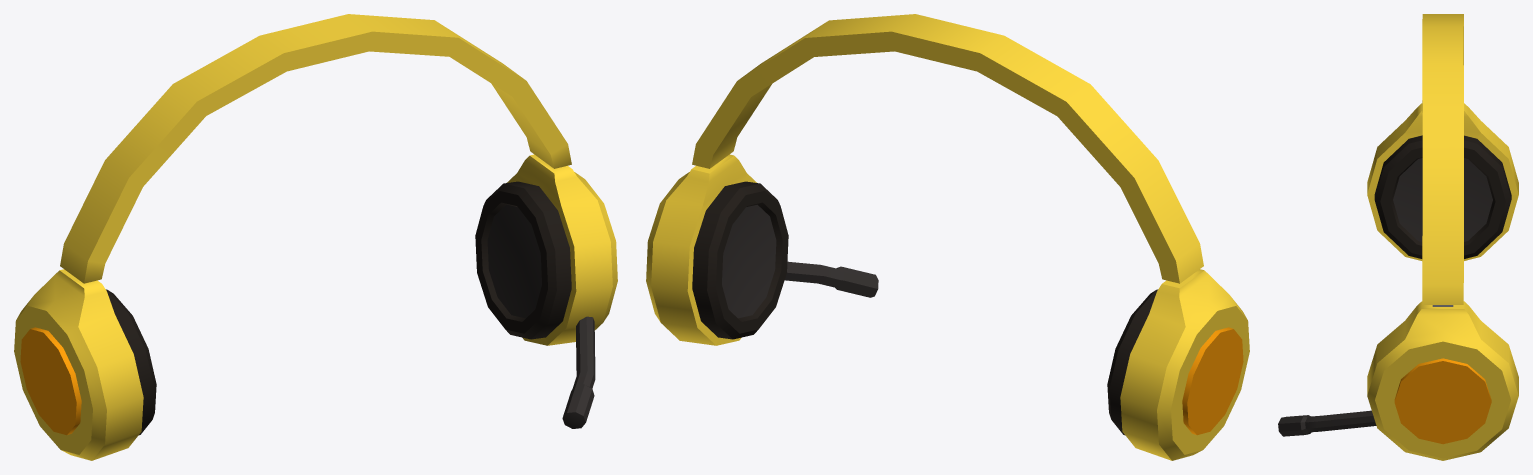
The model's file is Headphones_01_01.fbx.
3 renders of one model, left to right at view 1: azimuth 30°, elevation 25°; view 2: azimuth 150°, elevation 25°; view 3: azimuth 270°, elevation 25°, orthographic. The views are drawn at different scales.
Visible parts, largest first — view 1: Headphones_01_01; view 2: Headphones_01_01; view 3: Headphones_01_01.
Part boxes in pixels (left/top/right/bottom): Headphones_01_01: left=14, top=14, right=617, bottom=460; Headphones_01_01: left=646, top=14, right=1249, bottom=460; Headphones_01_01: left=1278, top=14, right=1518, bottom=460.
Size of the model in its own units: 50.61 by 32.9 by 22.45.
